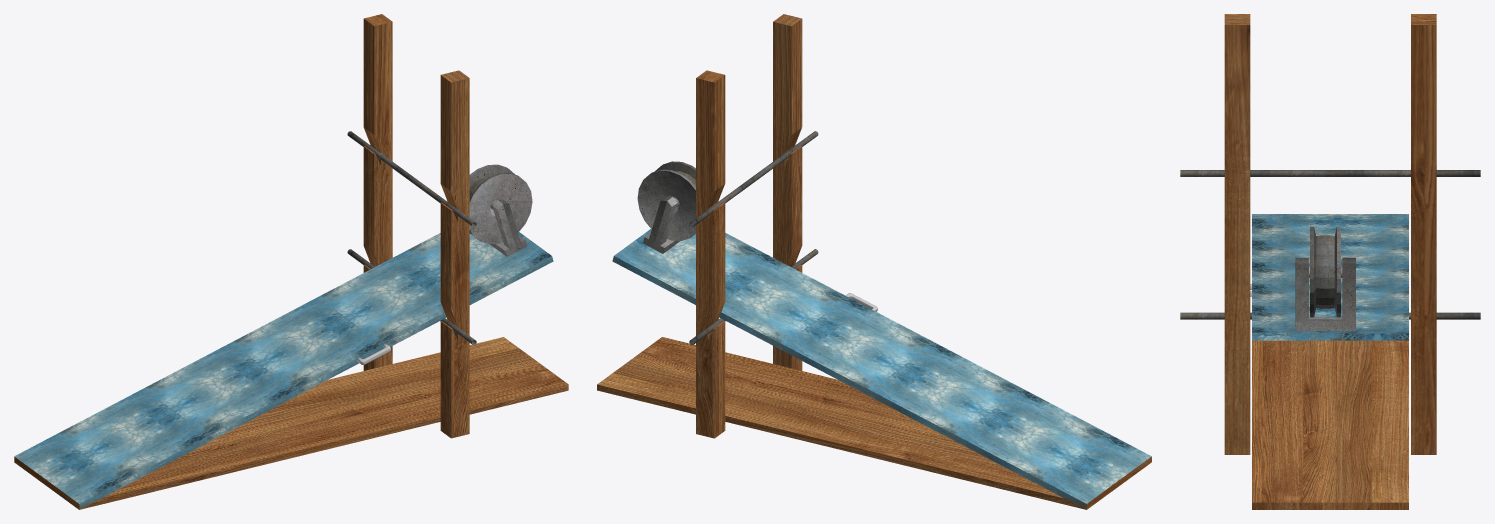
The model's file is inclined plane_02.fbx.
The picture shows the model from 3 angles, left to right: view 1: azimuth 30°, elevation 25°; view 2: azimuth 150°, elevation 25°; view 3: azimuth 270°, elevation 25°; orthographic projection. The views are drawn at different scales.
Visible parts, largest first — view 1: plane11:plane3, plane11:plane2, polySurface3, polySurface9, polySurface11, polySurface10, rod; view 2: plane11:plane3, plane11:plane2, polySurface9, polySurface3, polySurface11, polySurface10, rod; view 3: plane11:plane2, plane11:plane3, polySurface3, polySurface9, polySurface10, polySurface11, rod, rod1.
Part boxes in pixels (<box>): plane11:plane3: <box>14,232,553,508</box>; plane11:plane2: <box>14,337,568,509</box>; polySurface3: <box>440,70,469,438</box>; polySurface9: <box>363,14,392,370</box>; polySurface11: <box>469,164,532,243</box>; polySurface10: <box>489,199,526,256</box>; rod: <box>347,131,476,227</box>; plane11:plane3: <box>612,229,1151,508</box>; plane11:plane2: <box>597,337,1151,509</box>; polySurface9: <box>696,70,725,438</box>; polySurface3: <box>773,14,802,370</box>; polySurface11: <box>637,161,695,240</box>; polySurface10: <box>643,196,679,253</box>; rod: <box>689,131,818,227</box>; plane11:plane2: <box>1252,340,1408,509</box>; plane11:plane3: <box>1252,214,1408,340</box>; polySurface3: <box>1224,14,1250,454</box>; polySurface9: <box>1411,14,1436,454</box>; polySurface10: <box>1295,257,1355,330</box>; polySurface11: <box>1309,226,1342,317</box>; rod: <box>1180,170,1480,176</box>; rod1: <box>1180,312,1480,319</box>.
Size of the model in its own units: 19.77 by 13.73 by 8.69.
